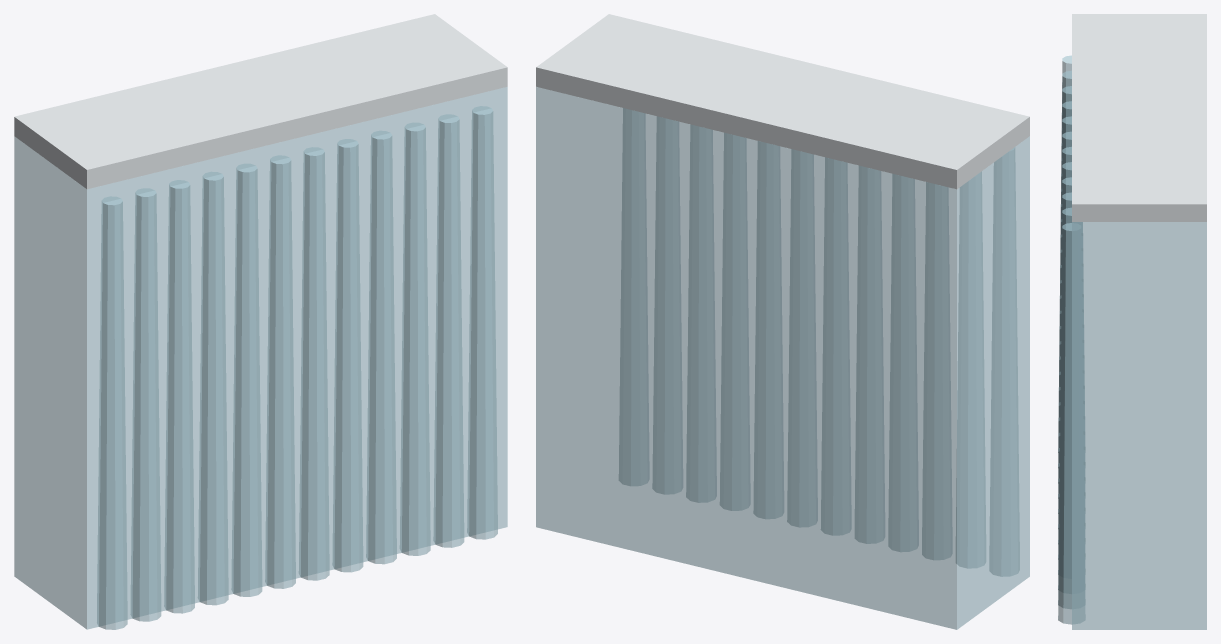
The model's file is alpine-and-arctic-biomes-ice-cliff-b9b091eb__21040.glb.
3 views of the same model, side by side, from view 1: azimuth 30°, elevation 25°; view 2: azimuth 150°, elevation 25°; view 3: azimuth 270°, elevation 25° (orthographic). The views are drawn at different scales.
Parts seen in each view (by area): view 1: ice-cliff; view 2: ice-cliff; view 3: ice-cliff.
Boxes of the visible parts, box(x1,y1,x2,y2) form: ice-cliff: box(14, 14, 507, 629); ice-cliff: box(536, 14, 1029, 629); ice-cliff: box(1058, 14, 1206, 629).
Bounding box in the file's own units: 5 × 5.22 × 1.65.
